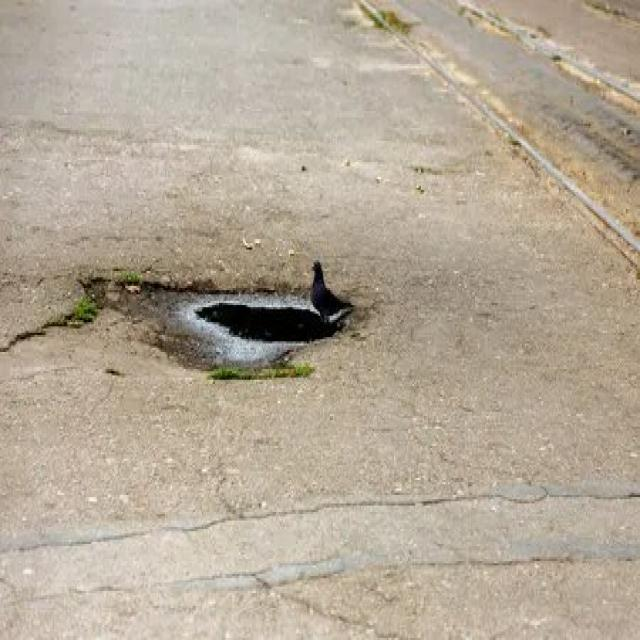Pothole: (76, 264, 362, 380)
